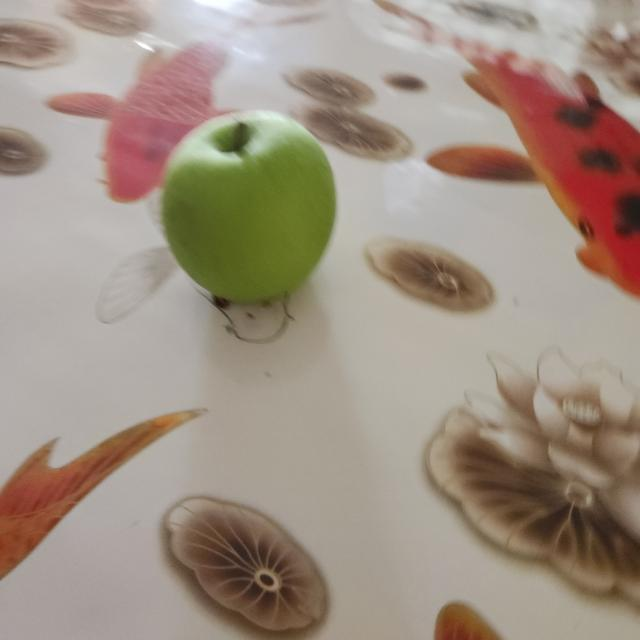apple: (154, 105, 347, 308)
